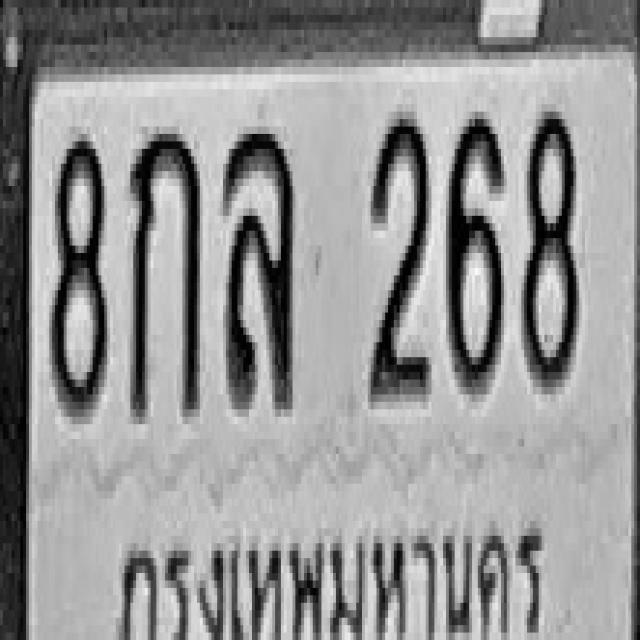10GorGai: (127, 126, 200, 416)
2: (369, 108, 430, 398)
45LorLing: (223, 122, 292, 406)
6: (446, 108, 504, 391)
8: (49, 130, 107, 413), (522, 104, 576, 387)
Bangkok: (110, 506, 547, 640)
